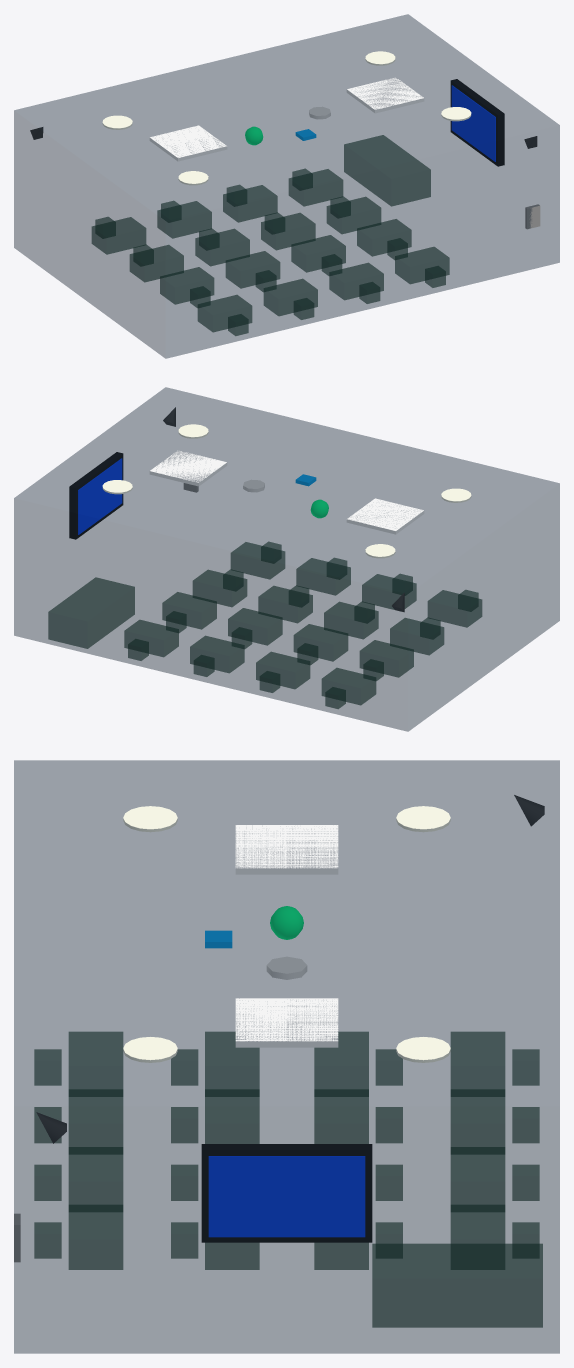
File: RoomType3_Left.glb
3 views of the same model, one above another, from view 1: azimuth 30°, elevation 25°; view 2: azimuth 150°, elevation 25°; view 3: azimuth 270°, elevation 25° (orthographic). The views are drawn at different scales.
Visible parts, largest first — view 1: object 1, object 36, object 35, Device:AC1, Device:AC2, object 10, object 18, object 2, object 26, object 20, object 12, object 4 (+10 smaller); view 2: object 1, object 36, object 35, Device:AC1, Device:AC2, object 24, object 8, object 32, object 22, object 14, object 6, object 30 (+10 smaller); view 3: object 1, object 36, object 35, Device:AC1, Device:AC2, object 34, object 32, object 2, object 8, object 10, object 16, object 18 (+27 smaller).
Part boxes in pixels (left/top/right/bottom): object 1: left=14, top=14, right=559, bottom=358; object 36: left=344, top=135, right=430, bottom=206; object 35: left=451, top=85, right=495, bottom=161; Device:AC1: left=149, top=125, right=227, bottom=161; Device:AC2: left=346, top=77, right=424, bottom=113; object 10: left=157, top=201, right=211, bottom=238; object 18: left=223, top=185, right=277, bottom=222; object 2: left=92, top=217, right=145, bottom=254; object 26: left=289, top=169, right=342, bottom=206; object 20: left=261, top=213, right=315, bottom=250; object 12: left=195, top=229, right=249, bottom=266; object 4: left=130, top=245, right=183, bottom=282; object 1: left=14, top=387, right=559, bottom=731; object 36: left=48, top=577, right=134, bottom=648; object 35: left=78, top=458, right=122, bottom=534; Device:AC1: left=346, top=498, right=424, bottom=534; Device:AC2: left=149, top=450, right=227, bottom=486; object 24: left=296, top=558, right=350, bottom=595; object 8: left=428, top=590, right=481, bottom=627; object 32: left=231, top=542, right=284, bottom=579; object 22: left=258, top=586, right=312, bottom=623; object 14: left=324, top=602, right=378, bottom=639; object 6: left=390, top=618, right=443, bottom=655; object 30: left=193, top=570, right=246, bottom=606; object 1: left=14, top=760, right=559, bottom=1353; object 36: left=372, top=1244, right=542, bottom=1327; object 35: left=208, top=1156, right=365, bottom=1237; Device:AC1: left=235, top=825, right=338, bottom=874; Device:AC2: left=235, top=998, right=338, bottom=1047; object 34: left=201, top=1144, right=372, bottom=1242; object 32: left=69, top=1205, right=122, bottom=1269; object 2: left=451, top=1032, right=504, bottom=1089; object 8: left=69, top=1032, right=122, bottom=1089; object 10: left=451, top=1089, right=504, bottom=1146; object 16: left=69, top=1089, right=122, bottom=1146; object 18: left=451, top=1147, right=504, bottom=1204.
Size of the model in its own units: 12 by 4.01 by 8.
